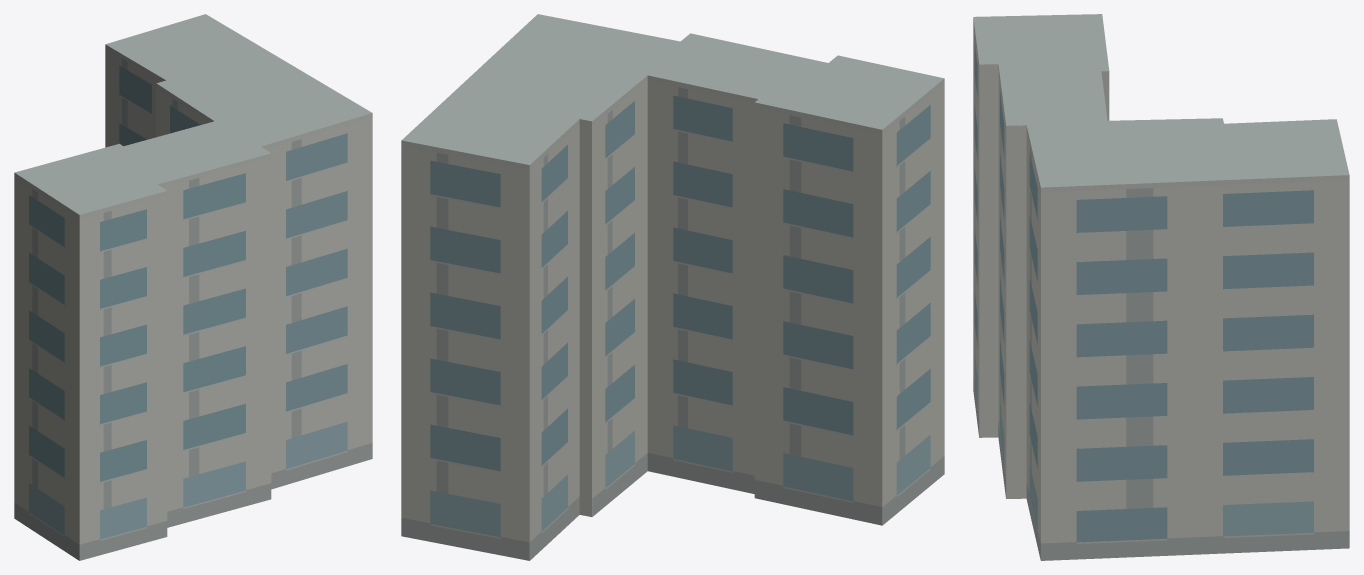
The model's file is survey-upis-32627616.glb.
3 renders of one model, left to right at view 1: azimuth 30°, elevation 25°; view 2: azimuth 150°, elevation 25°; view 3: azimuth 270°, elevation 25°, orthographic. The views are drawn at different scales.
Visible parts, largest first — view 1: survey-upis-32627616.tmp; view 2: survey-upis-32627616.tmp; view 3: survey-upis-32627616.tmp.
Boxes of the visible parts, bbox=[...] form: survey-upis-32627616.tmp: bbox=[14, 14, 372, 560]; survey-upis-32627616.tmp: bbox=[401, 14, 944, 560]; survey-upis-32627616.tmp: bbox=[973, 14, 1349, 560].
Size of the model in its own units: 18.21 by 18.25 by 16.68.
